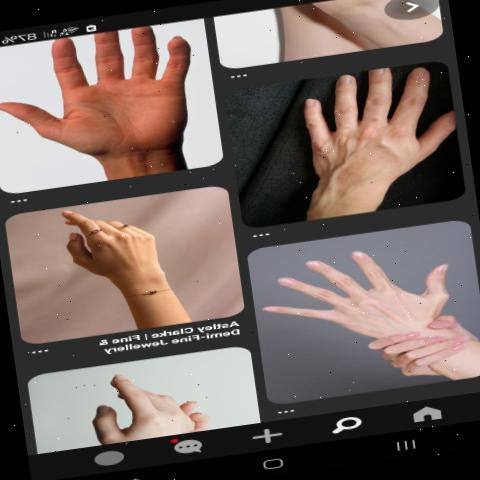Hands: (1, 19, 203, 182), (258, 235, 454, 382), (276, 61, 455, 202), (32, 196, 188, 316)
